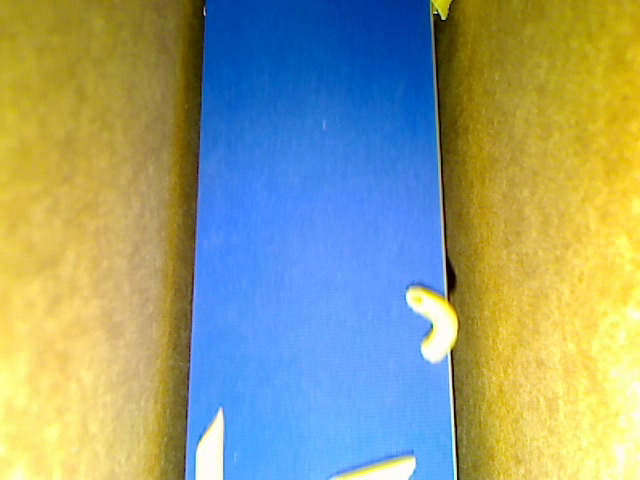penne: (328, 454, 416, 479), (194, 404, 223, 479)
